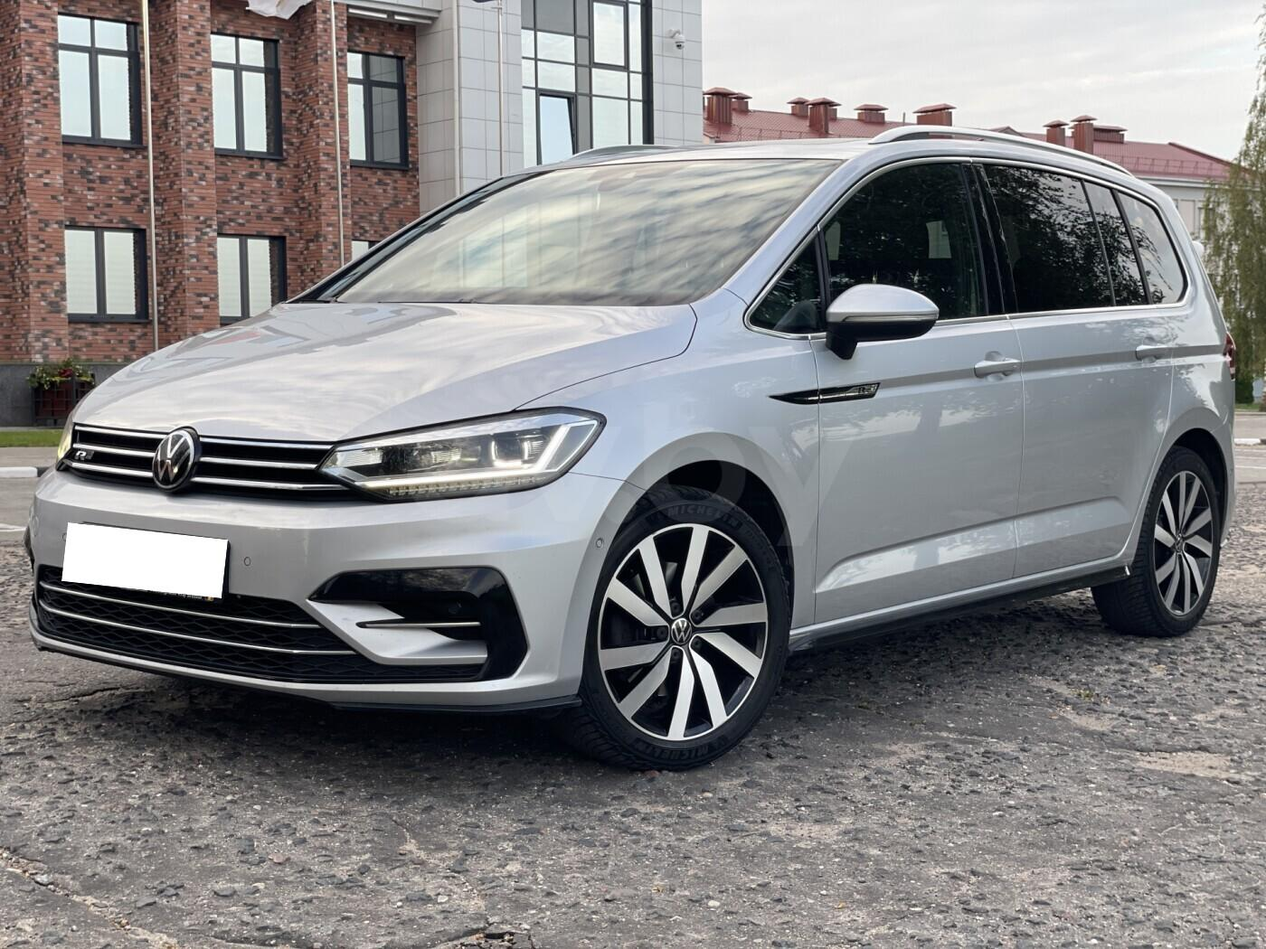Touran_2015: (22, 125, 1244, 767)
